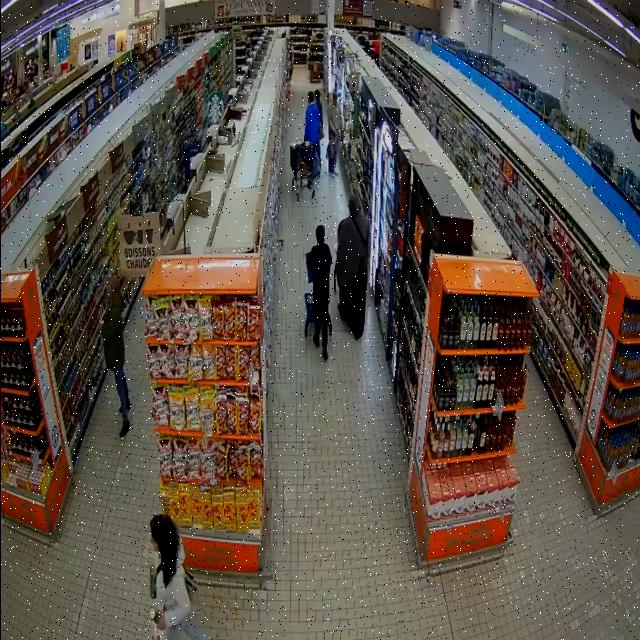article: (150, 567, 156, 599), (150, 607, 160, 624)
bags: (185, 570, 198, 599), (319, 125, 324, 140)
hands: (157, 613, 166, 630)
person: (151, 515, 207, 639), (101, 276, 131, 436), (336, 197, 367, 339), (308, 225, 332, 359), (305, 92, 320, 174), (328, 93, 341, 139), (327, 131, 337, 177), (314, 90, 324, 131)
